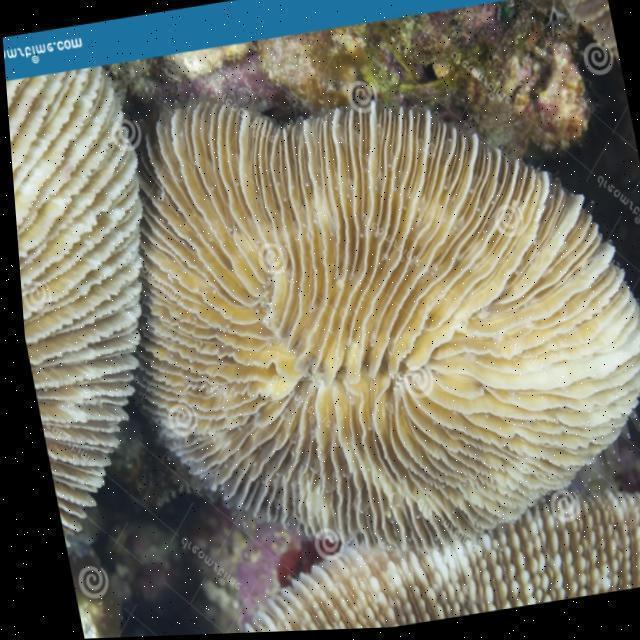Healthy Coral: (75, 66, 640, 596), (5, 72, 208, 547), (193, 497, 640, 636)
